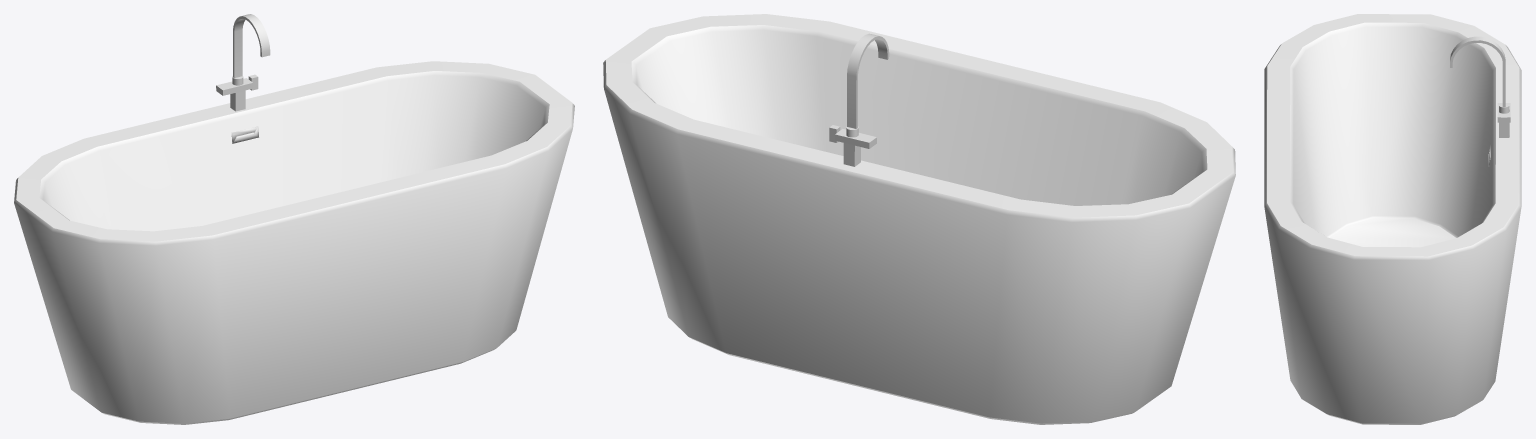
File: Bathtub.fbx
The picture shows the model from 3 angles, left to right: view 1: azimuth 30°, elevation 25°; view 2: azimuth 150°, elevation 25°; view 3: azimuth 270°, elevation 25°; orthographic projection. The views are drawn at different scales.
Parts seen in each view (by area): view 1: Bathtub; view 2: Bathtub; view 3: Bathtub.
Boxes of the visible parts, x1,y1,x2,y2 form: Bathtub: (14, 14, 574, 424); Bathtub: (603, 14, 1235, 424); Bathtub: (1264, 14, 1521, 424).
Size of the model in its own units: 2.83 by 1.58 by 1.26.
